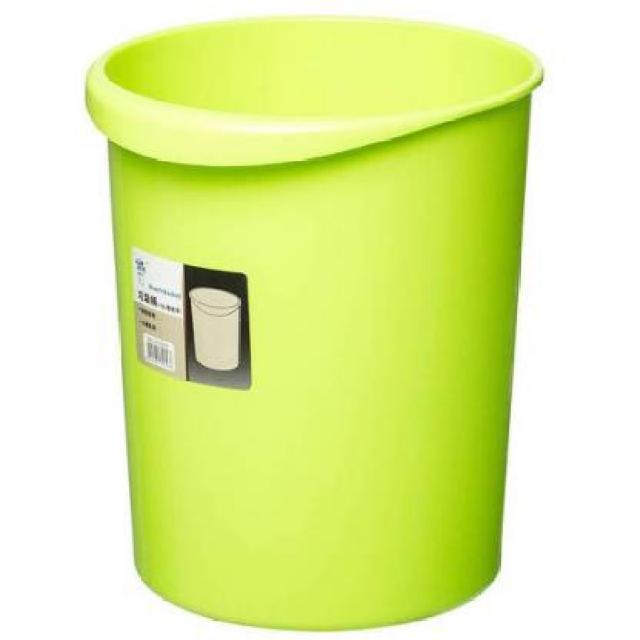dustbin: (78, 12, 551, 636)
